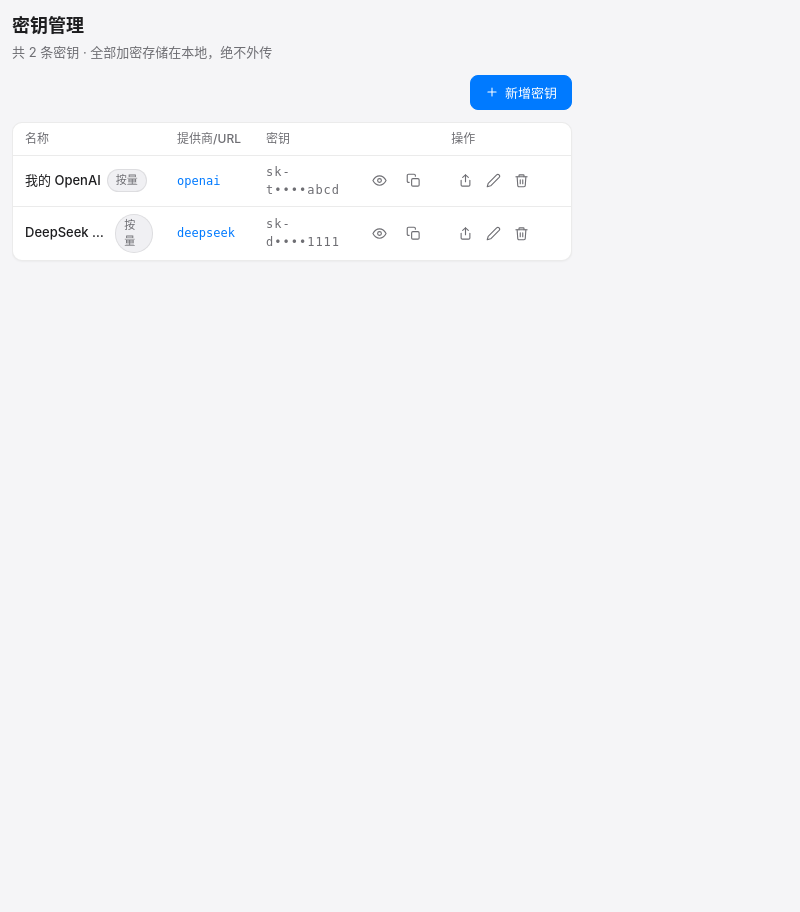
Test: KeyListPage › 点击提供商名复制 BASE URL
# 等按钮形态出现（providers 异步加载前会短暂渲染为纯文本 badge）
Click the button "deepseek".
click(206, 233)  # box [177,224,235,242]
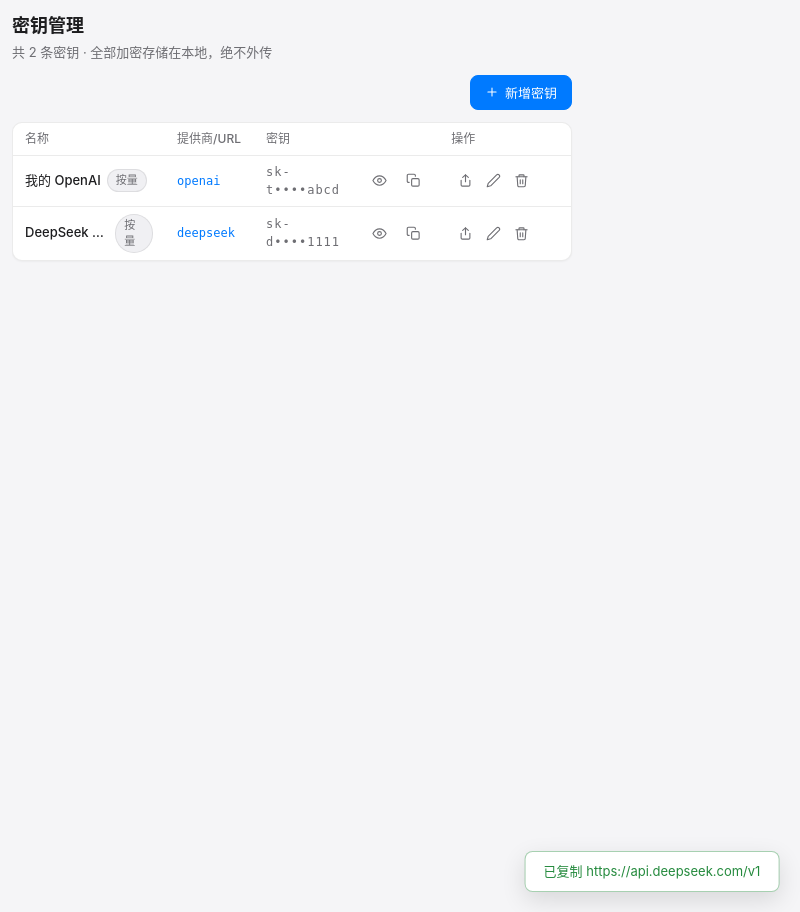
Now the text "已复制 https://api.deepseek.com/v1" is shown, box [525,850,779,892]
